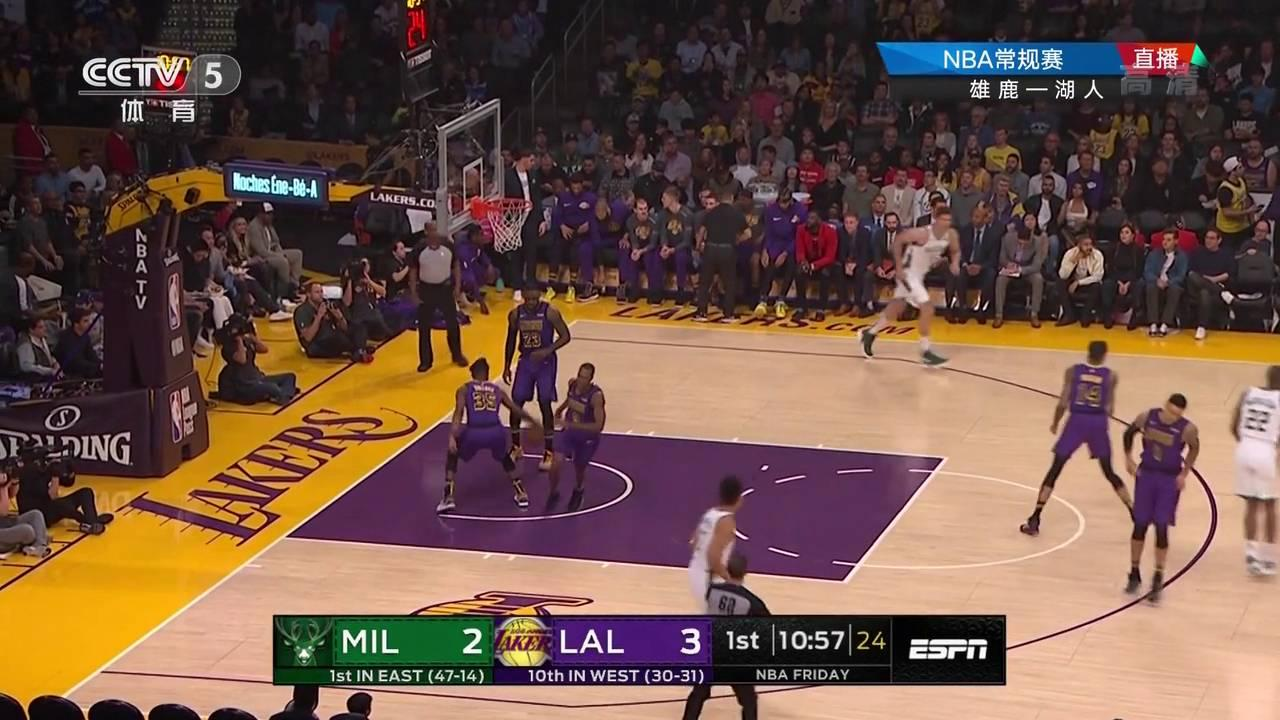basketball: (522, 422, 547, 451)
